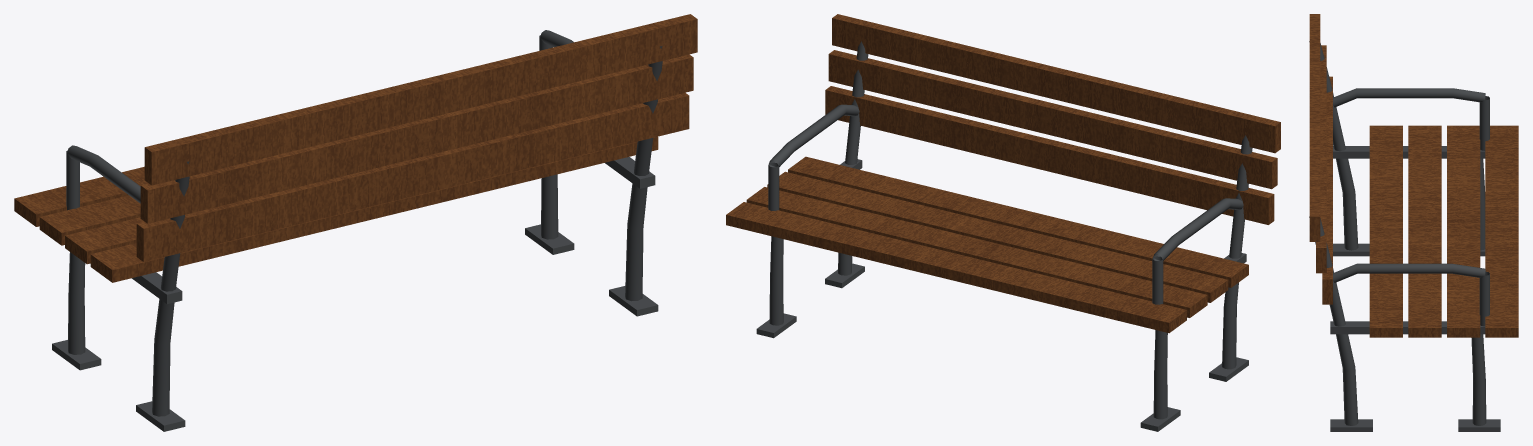
File: bench.glb
3 renders of one model, left to right at view 1: azimuth 30°, elevation 25°; view 2: azimuth 150°, elevation 25°; view 3: azimuth 270°, elevation 25°, orthographic. The views are drawn at different scales.
Visible parts, largest first — view 1: bench; view 2: bench; view 3: bench.
Boxes of the visible parts, x1,y1,x2,y2 form: bench: [14, 14, 697, 431]; bench: [726, 14, 1280, 431]; bench: [1309, 14, 1518, 431].
Bounding box in the file's own units: 1.8 × 0.9335 × 0.787.
2 materials, 1 textured.
